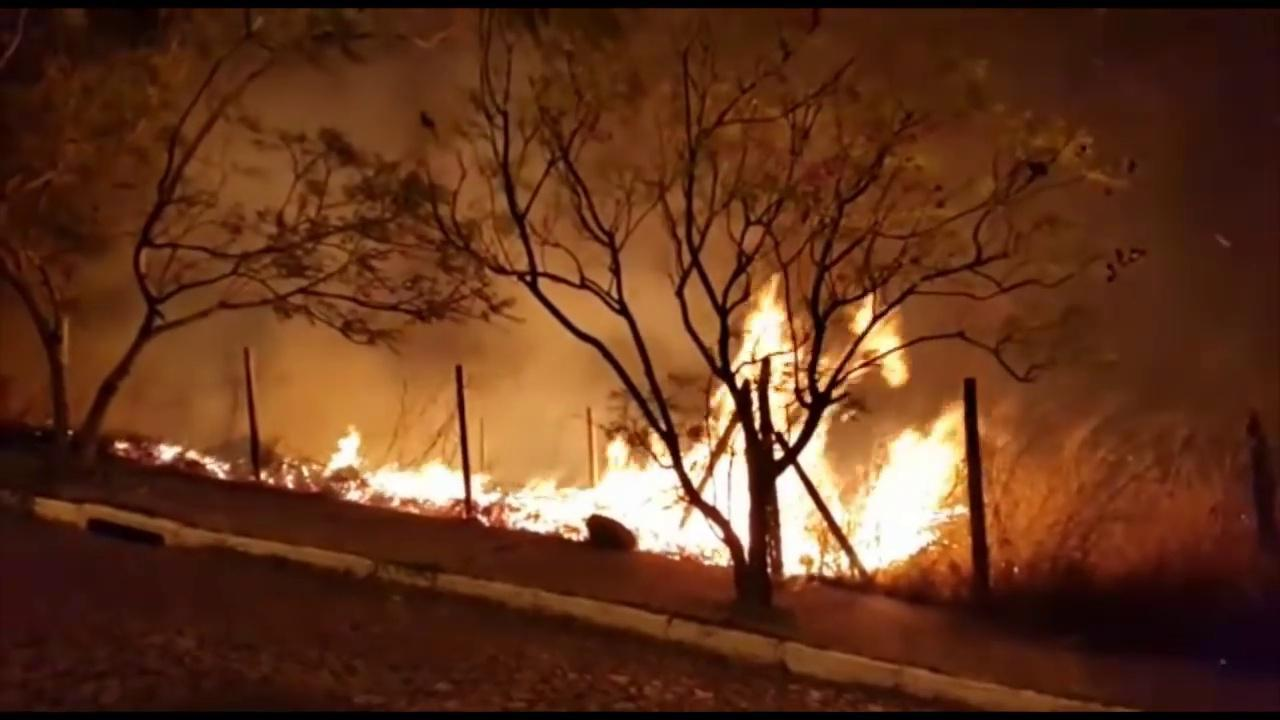Fire: (297, 271, 986, 564), (159, 441, 234, 480)
